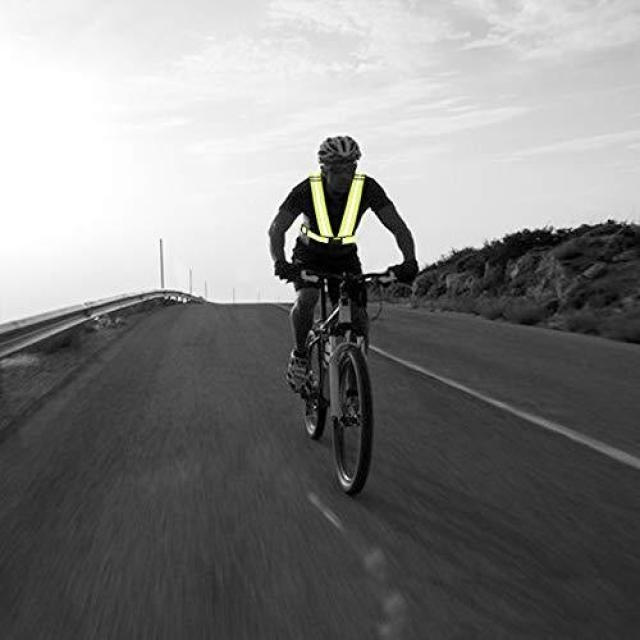Con_Chaleco: (306, 172, 368, 253)
